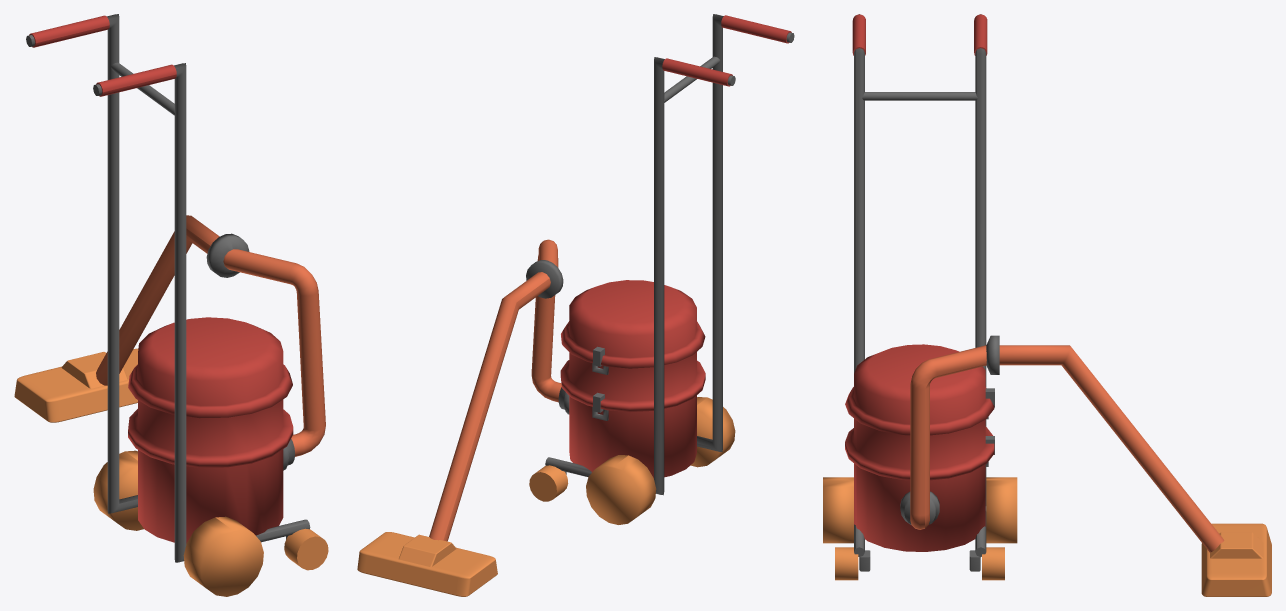
File: Vacuum Cleaners.glb
The picture shows the model from 3 angles, left to right: view 1: azimuth 30°, elevation 25°; view 2: azimuth 150°, elevation 25°; view 3: azimuth 270°, elevation 25°; orthographic projection. The views are drawn at different scales.
Parts seen in each view (by area): view 1: Cylindrical Lathe (×4), Spline (×4), Cube (×2), Cylinder (×4); view 2: Cylindrical Lathe (×4), Spline (×4), Cube (×2), Cylinder (×3); view 3: Cylindrical Lathe (×3), Spline (×4), Cube (×2), Cylinder (×3).
Boxes of the visible parts, x1=… form: Cylindrical Lathe (×4): x1=93, y1=233, x2=293, y2=596; Spline (×4): x1=26, y1=14, x2=325, y2=562; Cube (×2): x1=14, y1=348, x2=138, y2=422; Cylinder (×4): x1=29, y1=15, x2=328, y2=570; Cylindrical Lathe (×4): x1=526, y1=260, x2=735, y2=524; Spline (×4): x1=429, y1=14, x2=794, y2=541; Cube (×2): x1=357, y1=532, x2=497, y2=596; Cylinder (×3): x1=529, y1=15, x2=791, y2=501; Cylindrical Lathe (×3): x1=823, y1=344, x2=1017, y2=551; Spline (×4): x1=854, y1=14, x2=1224, y2=556; Cube (×2): x1=1201, y1=523, x2=1271, y2=596; Cylinder (×3): x1=835, y1=92, x2=1004, y2=580.
Size of the model in its own units: 0.64 by 1.19 by 1.02.
